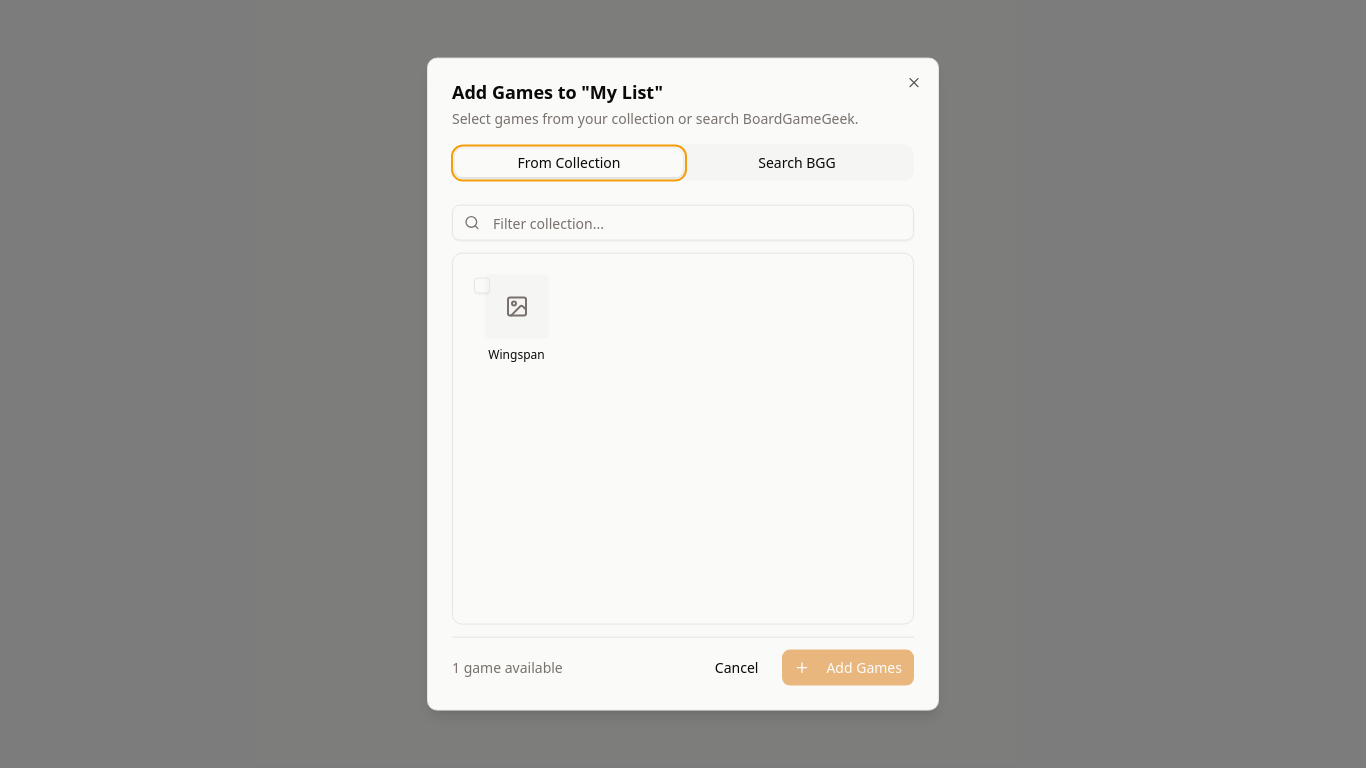
Test case: AddGamesToListDialog › collection tab › should select games on click
expect the text "Wingspan" is shown: met, box [488,346,545,363]
Click the button "Wingspan" at (511, 319), box [474,275,548,363]
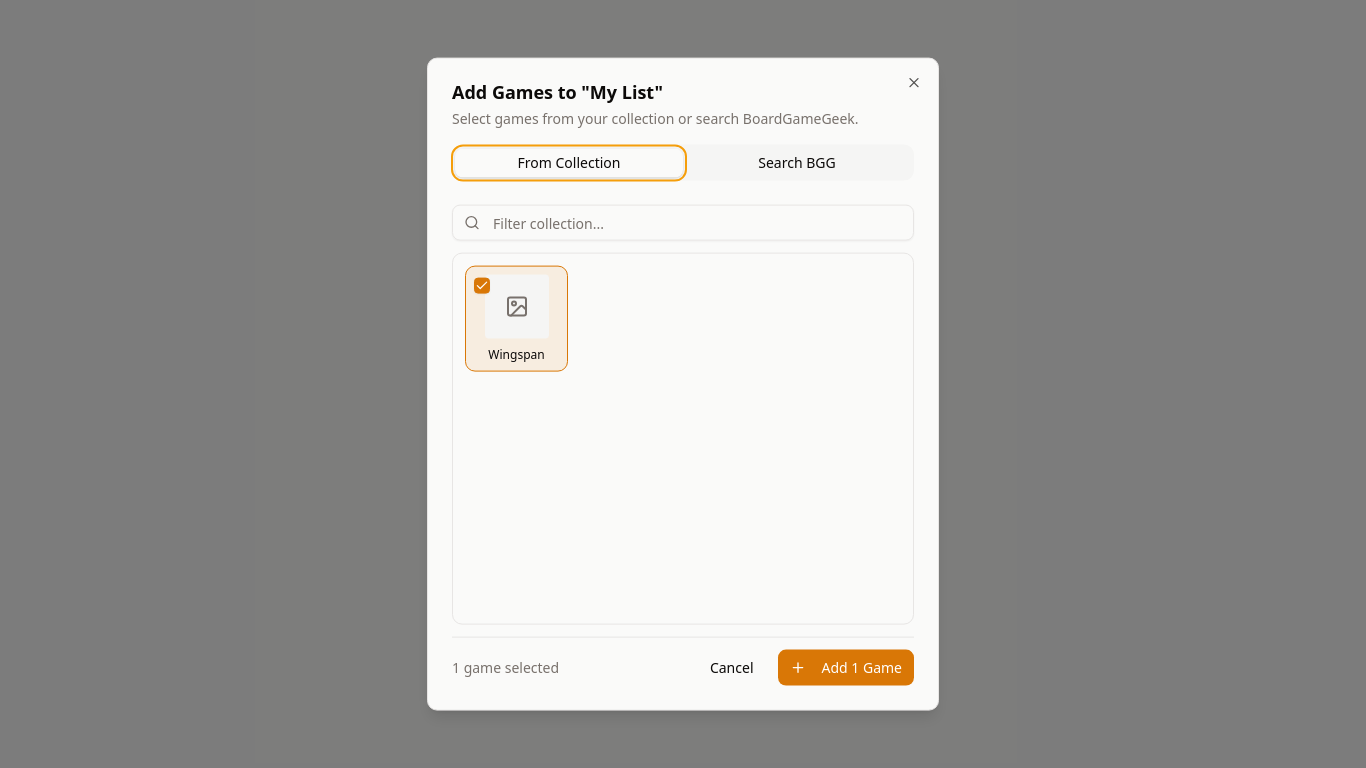
expect the text "1 game selected" is shown: met, box [452,657,559,677]
